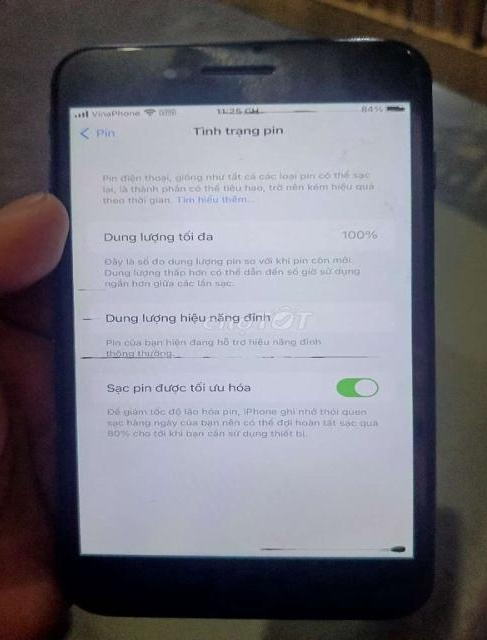scratch: (333, 35, 426, 57), (113, 41, 147, 54)
screen_defect: (74, 351, 392, 362), (250, 543, 409, 557), (70, 283, 114, 295), (70, 313, 106, 324)
